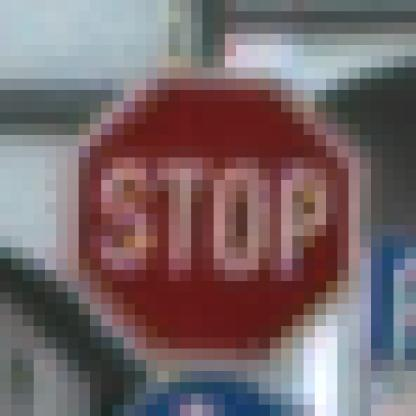Stop: (75, 76, 350, 361)
